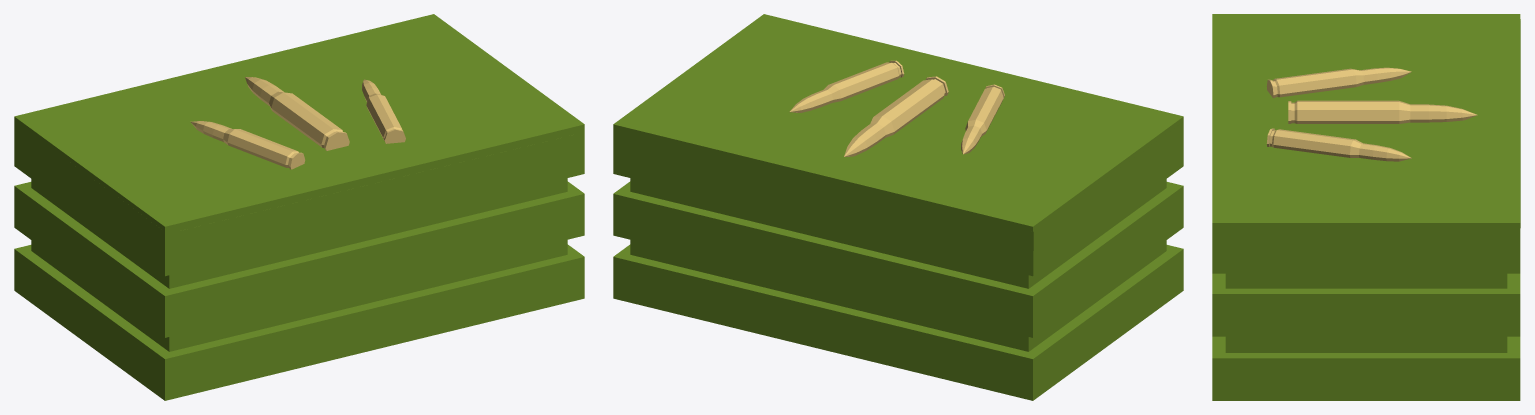
Rendered from ammoSupplyBox.fbx.
3 views of the same model, side by side, from view 1: azimuth 30°, elevation 25°; view 2: azimuth 150°, elevation 25°; view 3: azimuth 270°, elevation 25° (orthographic). The views are drawn at different scales.
Parts seen in each view (by area): view 1: Cube, big_bullet.001, big_bullet; view 2: Cube, big_bullet.001, big_bullet; view 3: Cube, big_bullet.001, big_bullet.
Part boxes in pixels (box(x1,y1,x2,y2)): Cube: box(14, 14, 584, 400); big_bullet.001: box(190, 79, 405, 169); big_bullet: box(245, 77, 349, 150); Cube: box(613, 14, 1183, 400); big_bullet.001: box(789, 60, 1004, 154); big_bullet: box(844, 76, 948, 156); Cube: box(1212, 14, 1520, 400); big_bullet.001: box(1266, 67, 1411, 161); big_bullet: box(1288, 100, 1477, 123).
Size of the model in its own units: 105 by 45.64 by 65.58.
